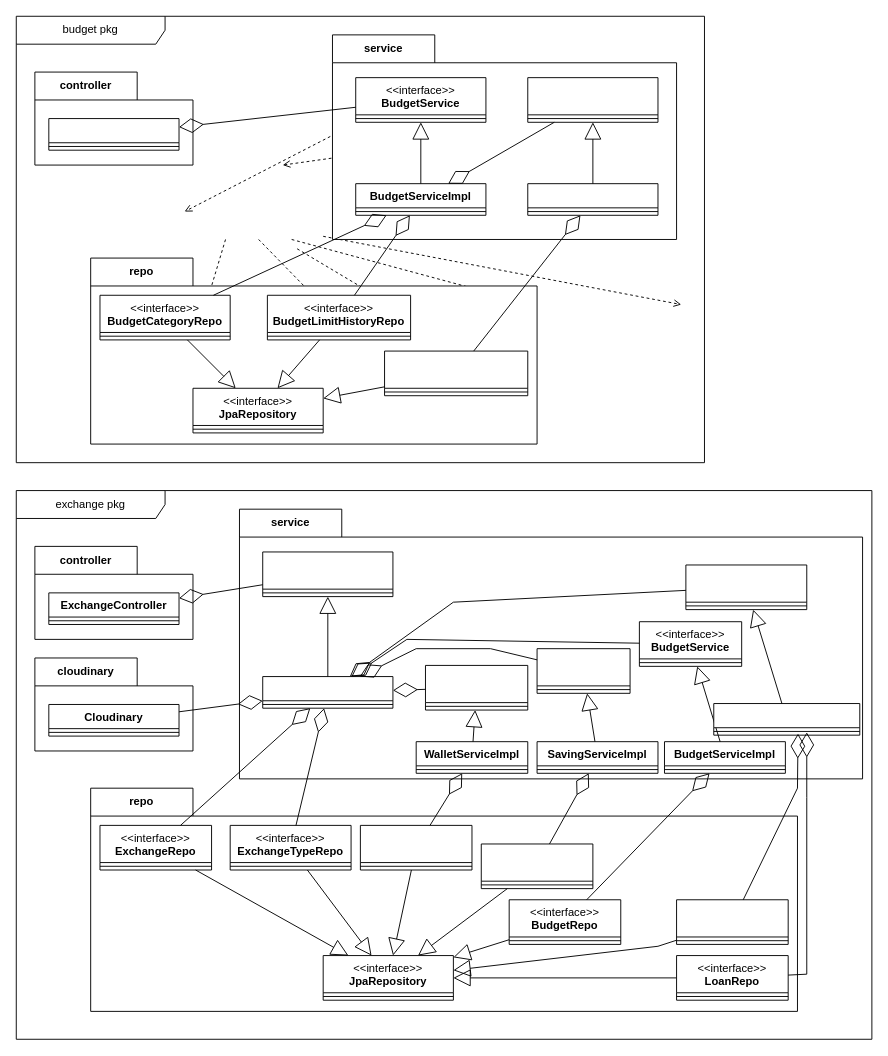
Some shapes in this 888 by 1056 pixel diagram are drawn without their labels. Each missing label, with the centre of its shape:
"<<interface>> DebtRepo" belongs at [732,921].
"<<interface>> ExchangeService" belongs at [327,574].
"<<interface>> LoanAndDebtService" belongs at [746,587].
"<<interface>> LogoRepo" belongs at [456,373].
"<<interface>> LogoService" belongs at [592,99].
"<<interface>> SavingRepo" belongs at [536,866].
"<<interface>> SavingService" belongs at [583,670].
"<<interface>> WalletRepository" belongs at [415,847].
"<<interface>> WalletService" belongs at [476,687].
"BudgetController" belongs at [113,134].
"ExchangeServiceImpl" belongs at [327,692].
"LoanAndDebtServiceImpl" belongs at [786,719].
"LogoServiceImpl" belongs at [592,199].
